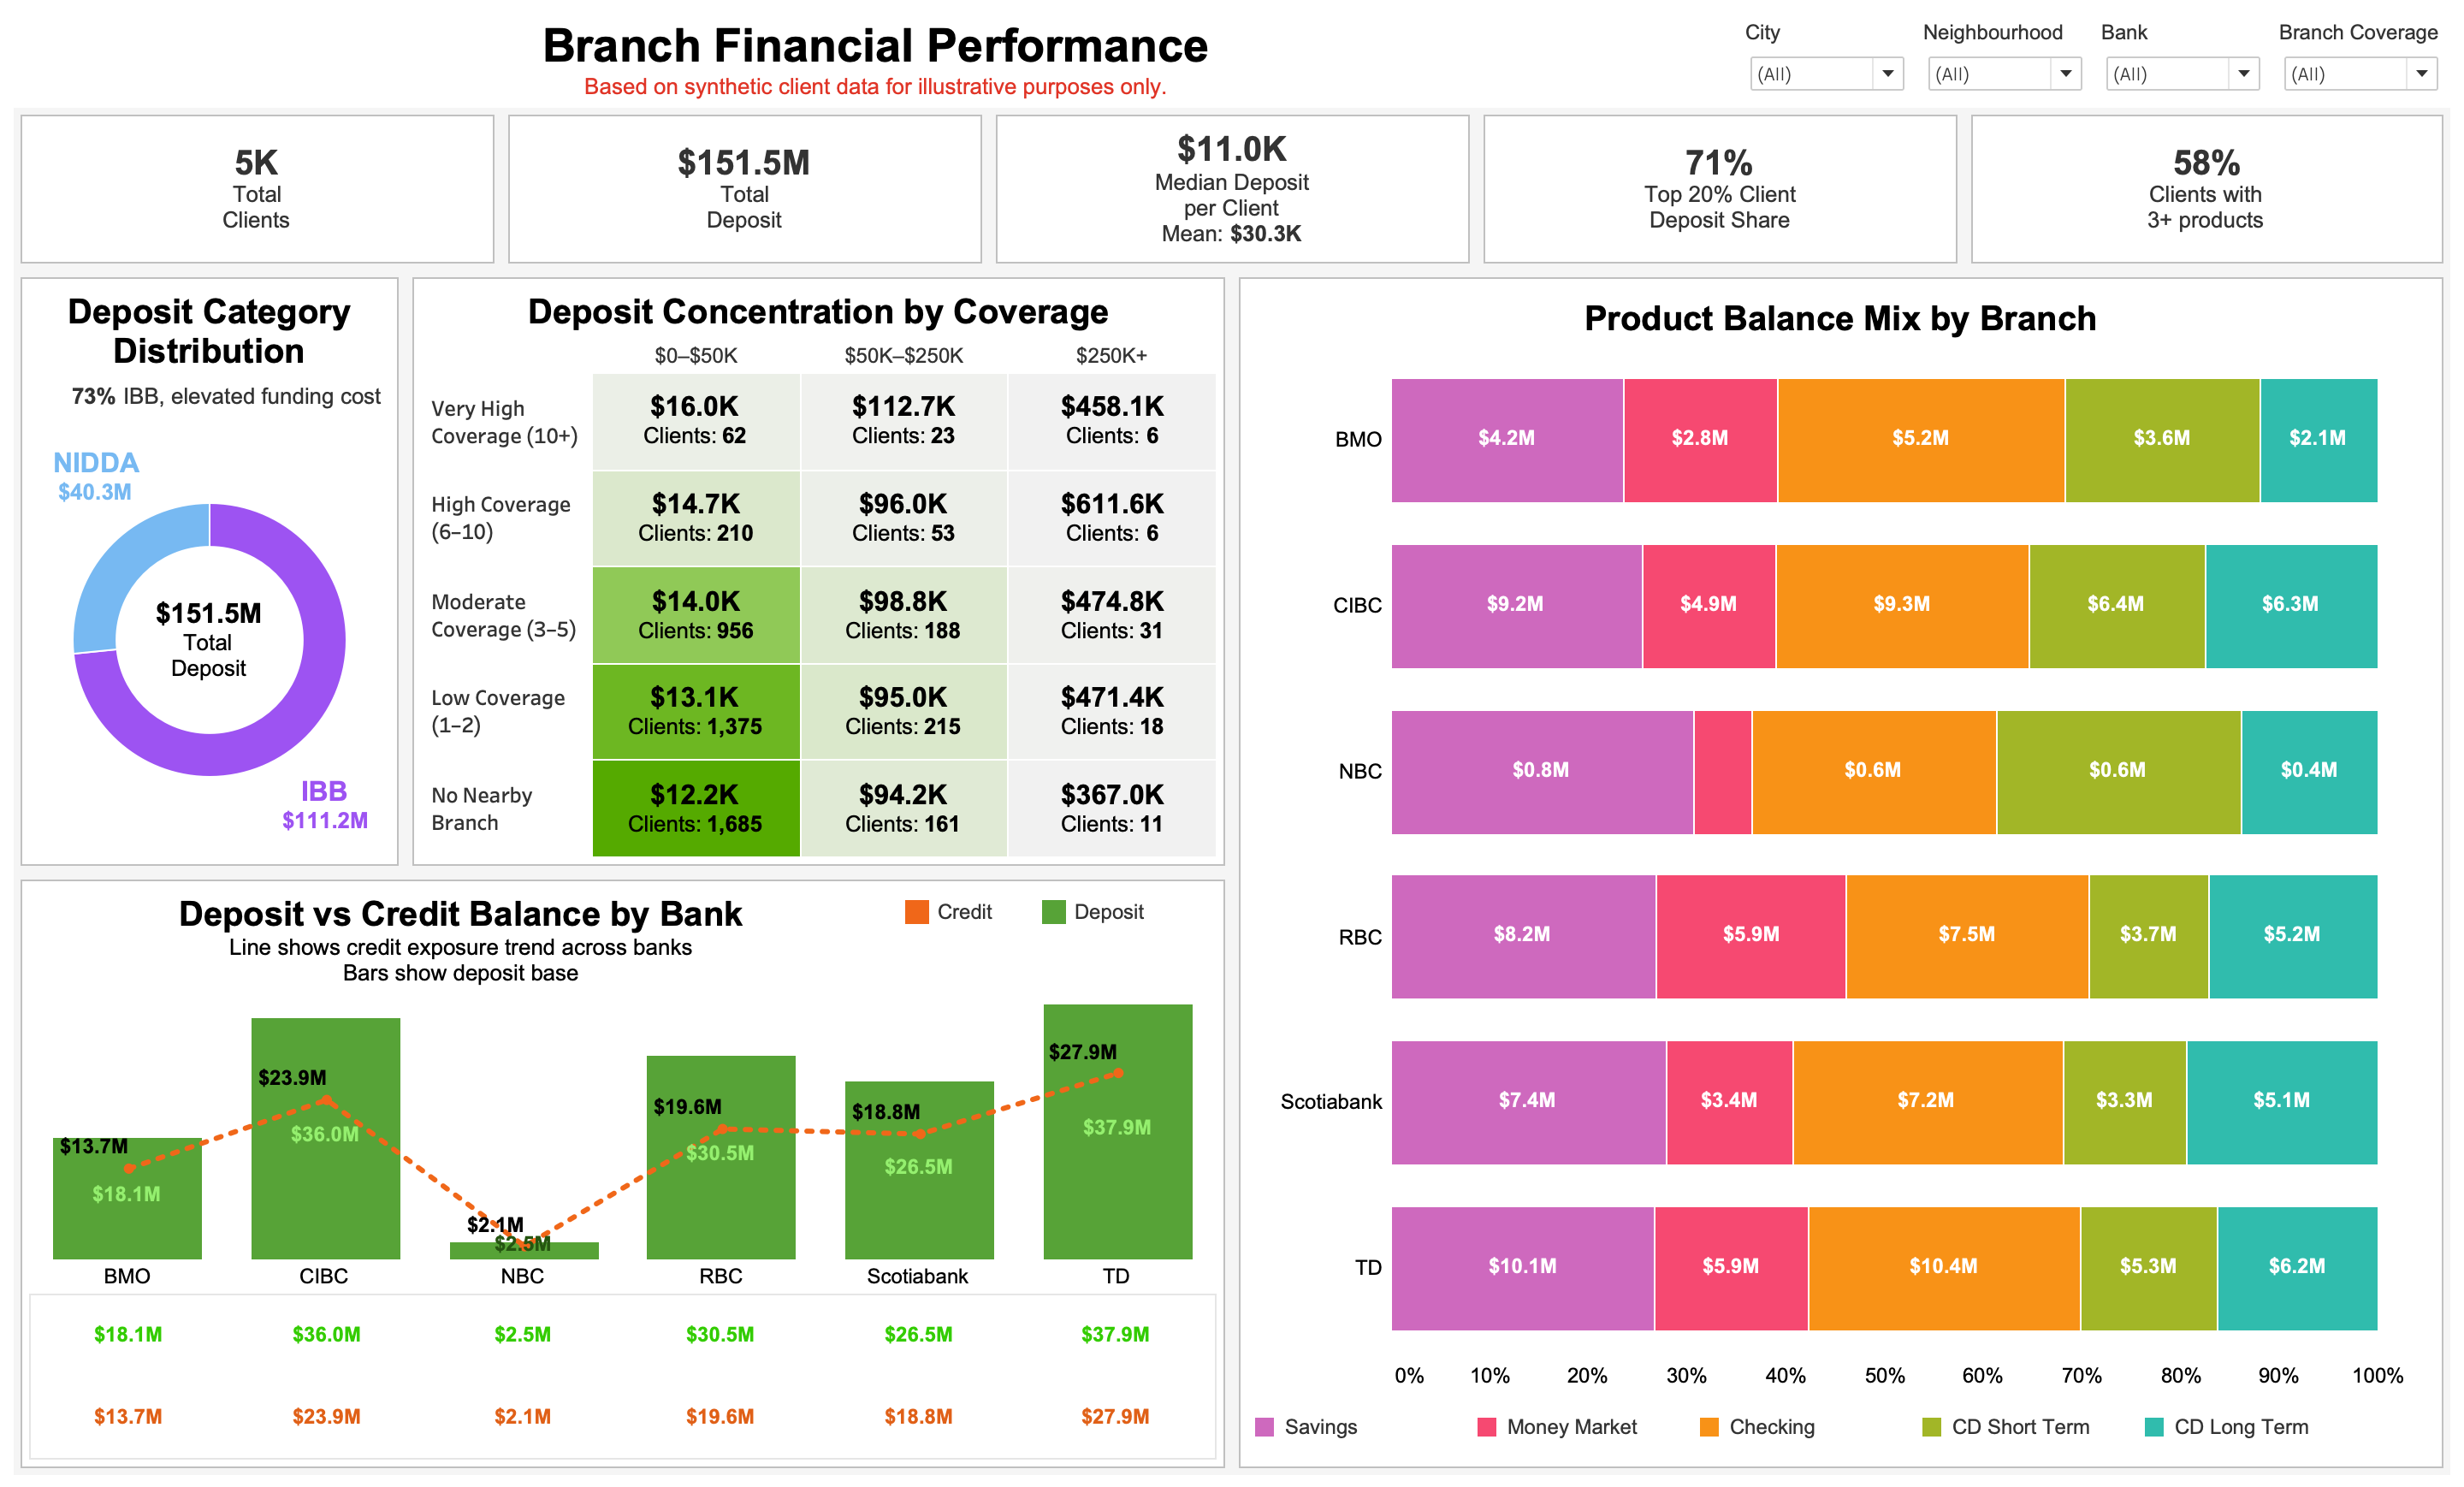

The page's visual inventory and layout, read from the dashboard file:
{"tool":"tableau","page":{"name":"Branch Financial Performance","canvas":[1000,1000],"units":"permille","ordinal":1},"visuals":[{"type":"text","box":[6.8,9.9,635.1,68.1]},{"type":"filter","title":"Deposit Category Distribution","param":"[federated.05nwqyi0e9kmep149xu3g1gegca0].[none:cust_city:nk]","box":[641.9,9.9,87.8,68.1]},{"type":"filter","title":"Deposit Category Distribution","param":"[federated.05nwqyi0e9kmep149xu3g1gegca0].[none:cust_neighbourhood:nk]","box":[729.7,9.9,87.8,68.1]},{"type":"filter","title":"Deposit Category Distribution","param":"[federated.05nwqyi0e9kmep149xu3g1gegca0].[primary_bank_name (group)]","box":[817.6,9.9,87.8,68.1]},{"type":"filter","title":"Deposit vs Credit Balance by Bank","param":"[federated.05nwqyi0e9kmep149xu3g1gegca0].[none:Calculation_3240168412651540:nk]","box":[905.4,9.9,87.8,68.1]},{"type":"worksheet","title":"KPI Total Customers","mark":"Automatic","box":[6.8,78,197.6,117.6]},{"type":"worksheet","title":"KPI Total Deposit","mark":"Automatic","box":[204.4,78,197.6,117.6]},{"type":"worksheet","title":"KPI Median Deposit per Client","mark":"Automatic","box":[402,78,197.6,117.6]},{"type":"worksheet","title":"KPI Deposits Held By Top 20% Clients","mark":"Automatic","box":[599.7,78,196.8,117.6]},{"type":"worksheet","title":"KPI Product Penetration","mark":"Automatic","box":[796.5,78,196.8,117.6]},{"type":"text","box":[14.4,206.7,178.2,61.9]},{"type":"text","box":[207.8,206.7,284.6,66.8]},{"type":"worksheet","title":"Product Balance Mix by Branch","mark":"Automatic","box":[507.6,206.7,478,736.4]},{"type":"worksheet","title":"IBB Share %","mark":"Automatic","box":[14.4,268.6,178.2,37.1]},{"type":"worksheet","title":"Deposit Concentration by Coverage","mark":"Square","rows":["Calculation_3240168412651540"],"cols":["Calculation_3240166639681552"],"box":[207.8,273.5,284.6,308.2]},{"type":"worksheet","title":"Deposit Category Distribution","mark":"Pie","rows":["Calculation_3240166542970882","Calculation_3240166542970882"],"box":[14.4,305.7,178.2,276]},{"type":"text","box":[14.4,604,318.4,75.5]},{"type":"legend","title":"Deposit vs Credit Balance by Bank","param":"[federated.05nwqyi0e9kmep149xu3g1gegca0].[:Measure Names]","box":[332.8,604,159.6,75.5]},{"type":"worksheet","title":"Deposit vs Credit Balance by Bank","mark":"Automatic","rows":["Calculation_3240166550990851","Calculation_3240166552662022"],"box":[14.4,679.5,478,217.8]},{"type":"worksheet","title":"Deposit Balance by Bank","mark":"Automatic","box":[15.2,898.5,476.4,39.6]},{"type":"worksheet","title":"Credit Balance by Bank","mark":"Automatic","box":[15.2,938.1,476.4,39.6]},{"type":"legend","title":"Product Balance Mix by Branch","param":"[federated.05nwqyi0e9kmep149xu3g1gegca0].[none:product_type:nk]","box":[507.6,943,478,35.9]}]}

Visuals, with their boxes on the dashboard's canvas, which has no fixed pixel size, in thousandths of its width and height (x1, y1, x2, y2). These are canvas units, not pixel positions in the 2464x1487 screenshot, which may show the page scaled, cropped or inside an application window:
text: select_region(7, 10, 642, 78)
"Deposit Category Distribution" filter: select_region(642, 10, 730, 78)
"Deposit Category Distribution" filter: select_region(730, 10, 818, 78)
"Deposit Category Distribution" filter: select_region(818, 10, 905, 78)
"Deposit vs Credit Balance by Bank" filter: select_region(905, 10, 993, 78)
"KPI Total Customers" worksheet: select_region(7, 78, 204, 196)
"KPI Total Deposit" worksheet: select_region(204, 78, 402, 196)
"KPI Median Deposit per Client" worksheet: select_region(402, 78, 600, 196)
"KPI Deposits Held By Top 20% Clients" worksheet: select_region(600, 78, 796, 196)
"KPI Product Penetration" worksheet: select_region(796, 78, 993, 196)
text: select_region(14, 207, 193, 269)
text: select_region(208, 207, 492, 274)
"Product Balance Mix by Branch" worksheet: select_region(508, 207, 986, 943)
"IBB Share %" worksheet: select_region(14, 269, 193, 306)
"Deposit Concentration by Coverage" worksheet (Square marks): select_region(208, 274, 492, 582)
"Deposit Category Distribution" worksheet (Pie marks): select_region(14, 306, 193, 582)
text: select_region(14, 604, 333, 680)
"Deposit vs Credit Balance by Bank" legend: select_region(333, 604, 492, 680)
"Deposit vs Credit Balance by Bank" worksheet: select_region(14, 680, 492, 897)
"Deposit Balance by Bank" worksheet: select_region(15, 898, 492, 938)
"Credit Balance by Bank" worksheet: select_region(15, 938, 492, 978)
"Product Balance Mix by Branch" legend: select_region(508, 943, 986, 979)
